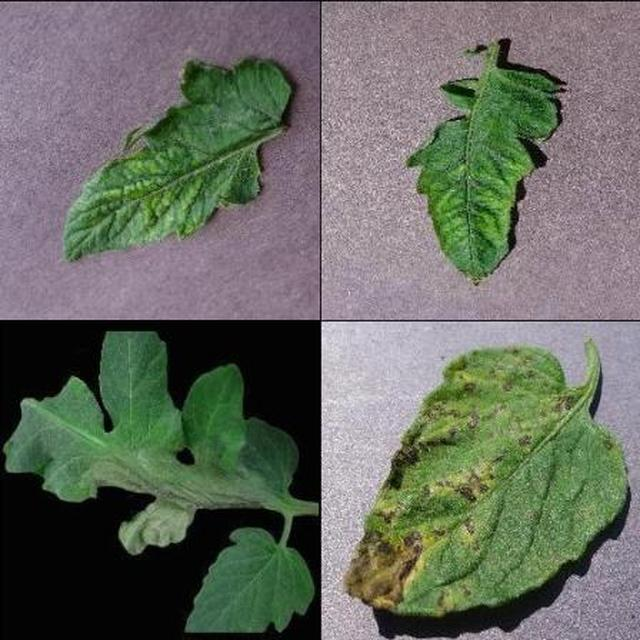Mosaic Virus Leaf: (186, 153, 640, 640)
